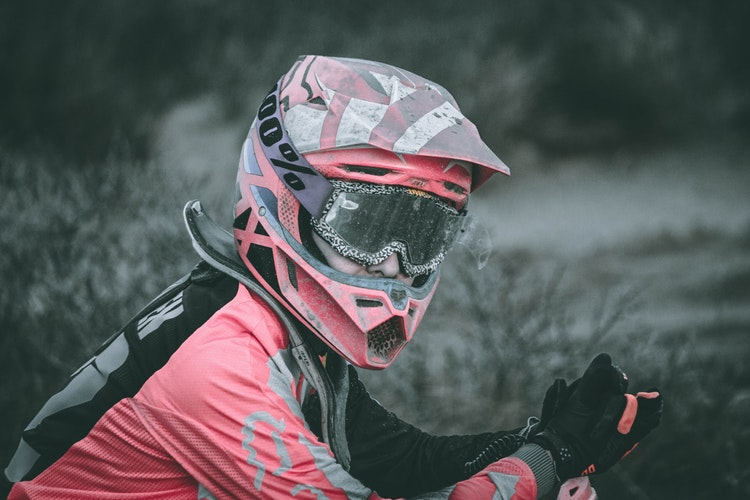helmet: (242, 52, 503, 366)
